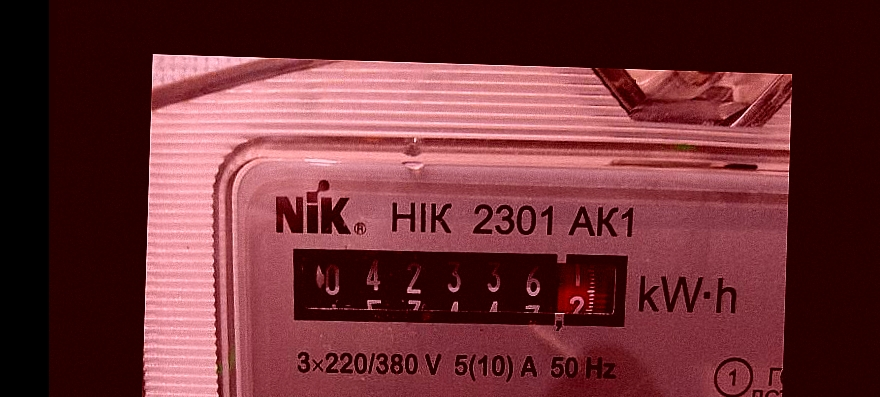0: (322, 260, 344, 296)
1: (571, 259, 585, 288)
2: (404, 259, 425, 295), (567, 293, 587, 314)
3: (445, 256, 465, 295), (483, 257, 504, 294)
4: (364, 254, 384, 292)
6: (522, 261, 545, 297)
screen: (283, 234, 638, 338)
